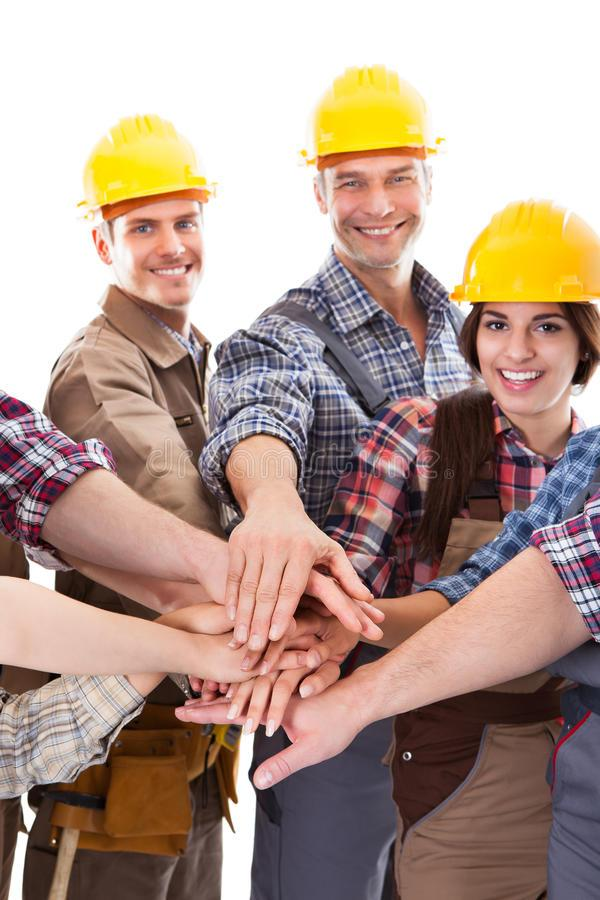helmet: (88, 115, 217, 211), (311, 75, 431, 161)
